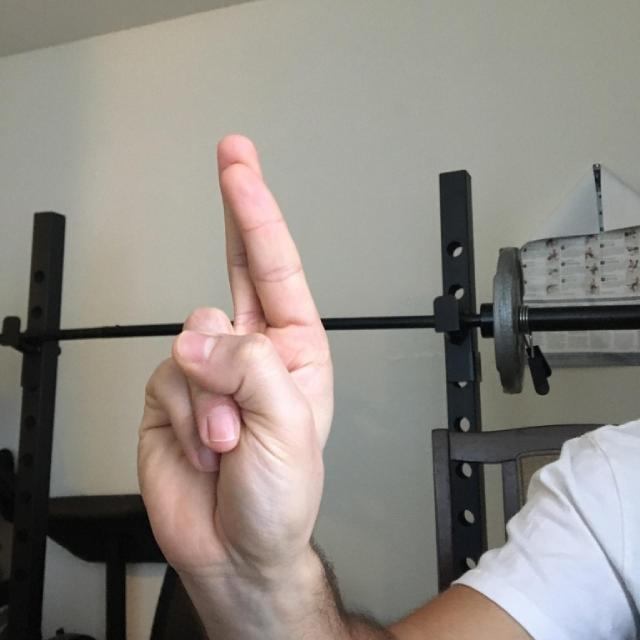R: (110, 89, 393, 632)
